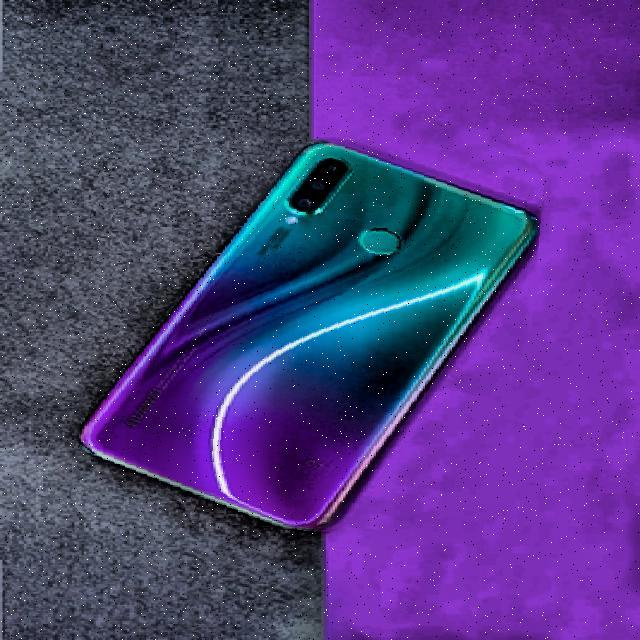Phone: (78, 130, 538, 539)
